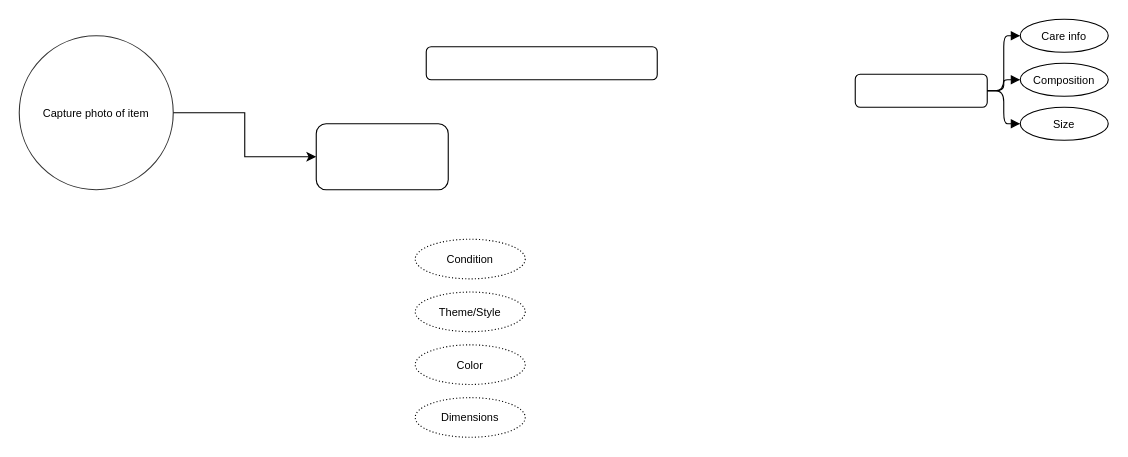
Image size: 1128x457. Some labels were removed from this diagram. The shapes that lost their labels are listed below. From the top down, each one's centre as x and y in pixels, then its label:
At pixel 541 63: "Conduct research".
At pixel 920 90: "Clothing tags".
At pixel 381 156: "identify item attributes".
